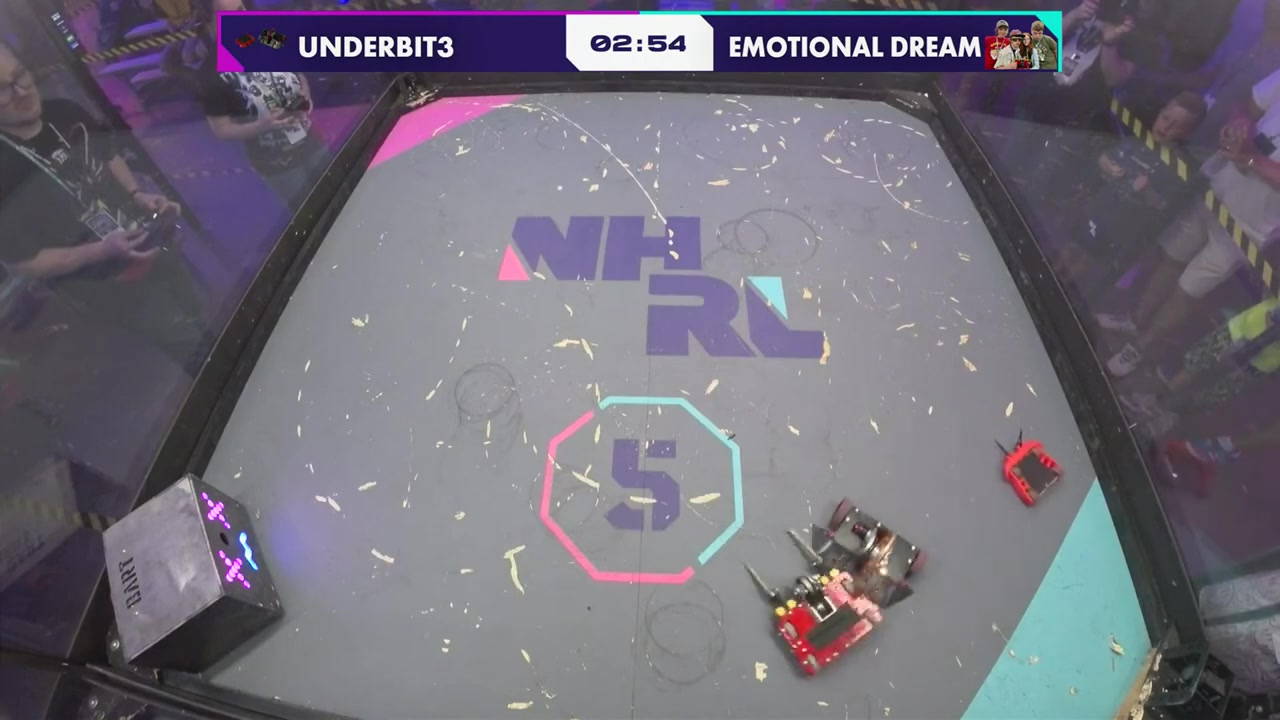combatbot: (740, 557, 877, 677), (803, 499, 926, 609)
housebot: (99, 474, 287, 674)
minibot: (990, 427, 1066, 510)
